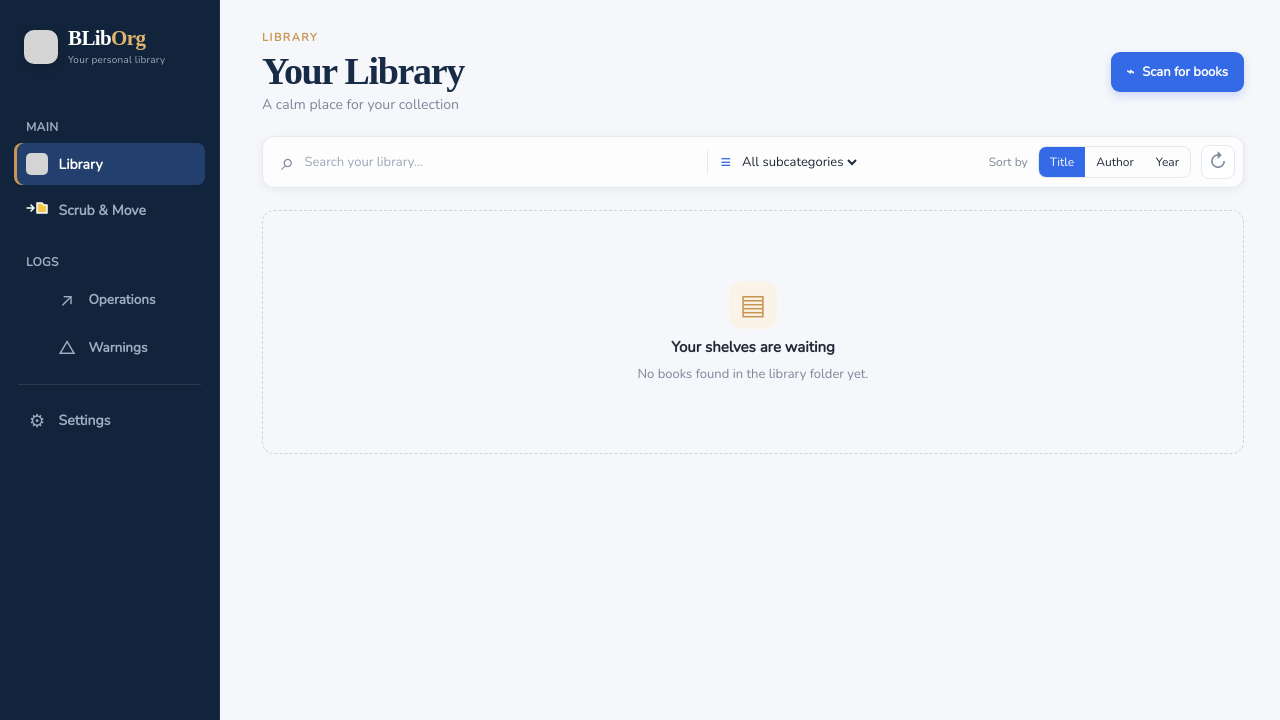
Test: App › switches to the Operations Log view when its sidebar item is clicked
Expected: the button "Scrub & Move" is shown, [14,189,205,230]
Click the button "↗ Operations" at [110, 300], box [14,278,205,322]
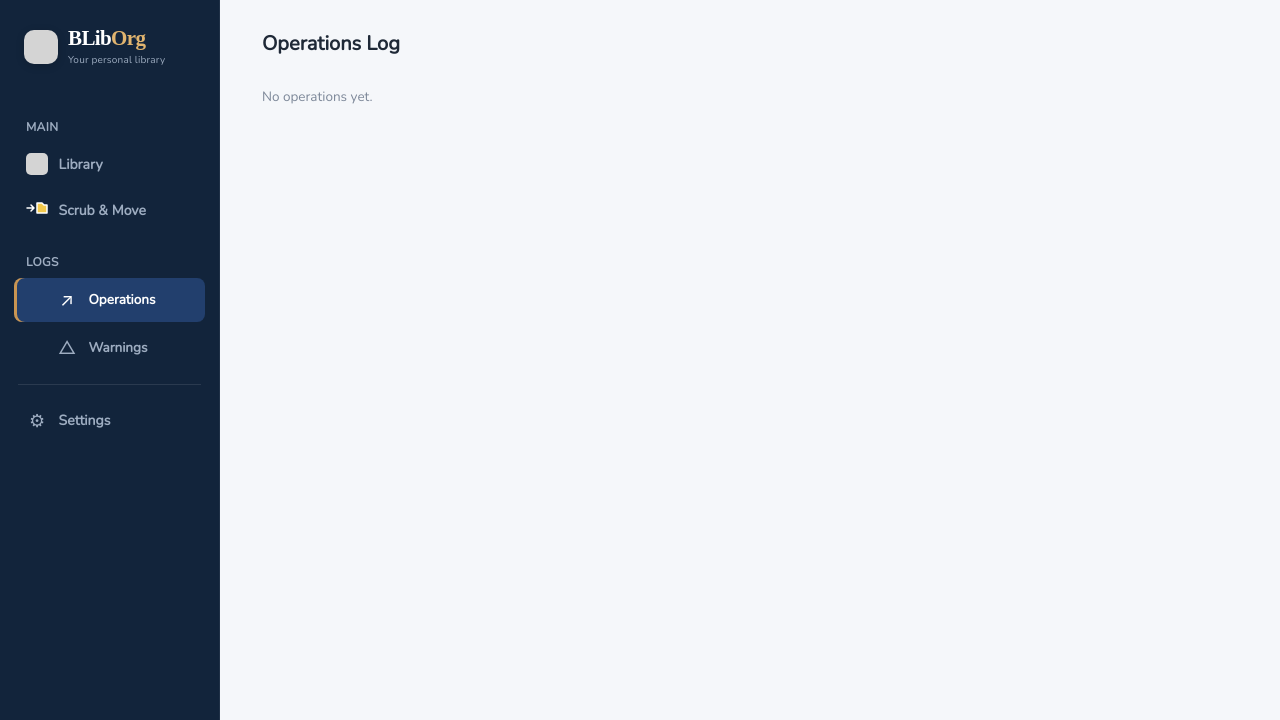
Now the heading "Operations Log" is shown, box [262,30,400,57]
